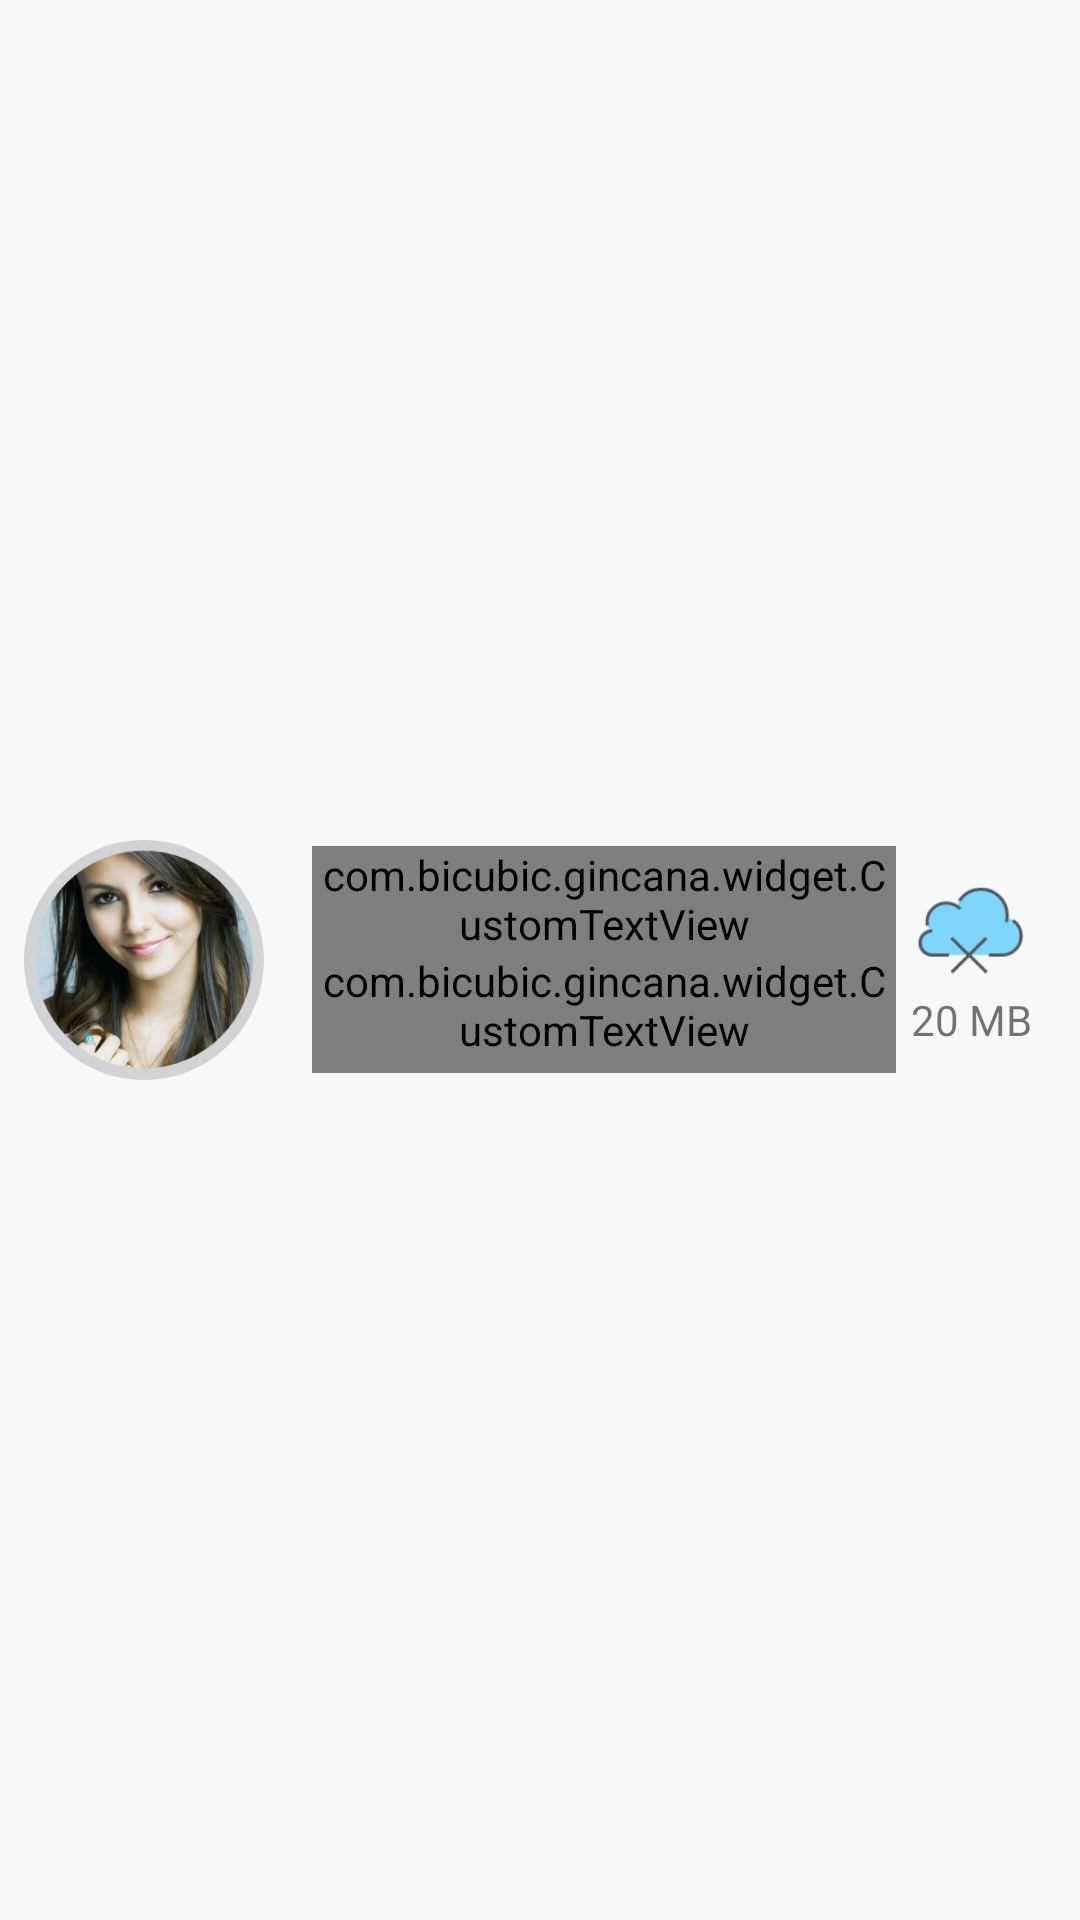

Point at icon controls on the screen. Image size 1080*1920, points as [x,y].
profile: [144,960]
